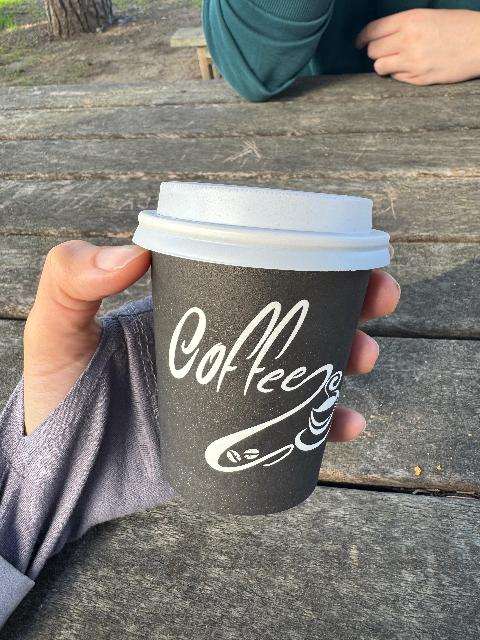Kagit: (152, 167, 375, 541)
